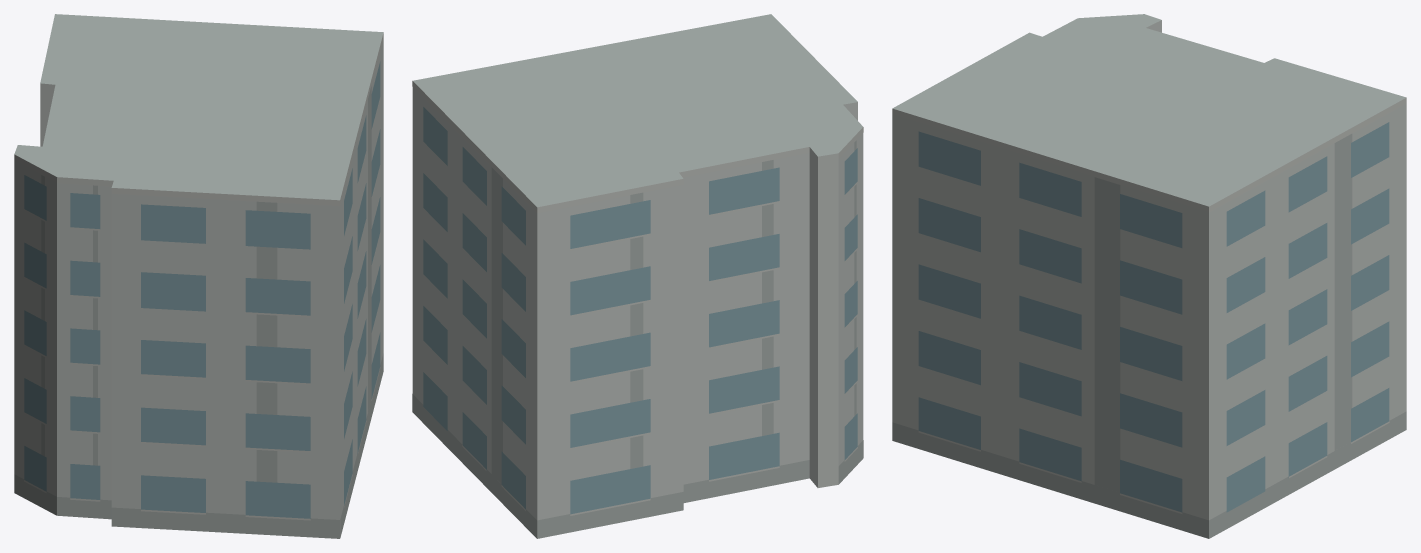
File: survey-upis-32825584.glb
The picture shows the model from 3 angles, left to right: view 1: azimuth 30°, elevation 25°; view 2: azimuth 150°, elevation 25°; view 3: azimuth 270°, elevation 25°; orthographic projection. The views are drawn at different scales.
Parts seen in each view (by area): view 1: survey-upis-32825584.tmp; view 2: survey-upis-32825584.tmp; view 3: survey-upis-32825584.tmp.
Boxes of the visible parts, bbox=[...] form: survey-upis-32825584.tmp: bbox=[14, 14, 383, 538]; survey-upis-32825584.tmp: bbox=[412, 14, 863, 538]; survey-upis-32825584.tmp: bbox=[892, 14, 1406, 538].
Bounding box in the file's own units: 17.17 × 13.8 × 19.37.
